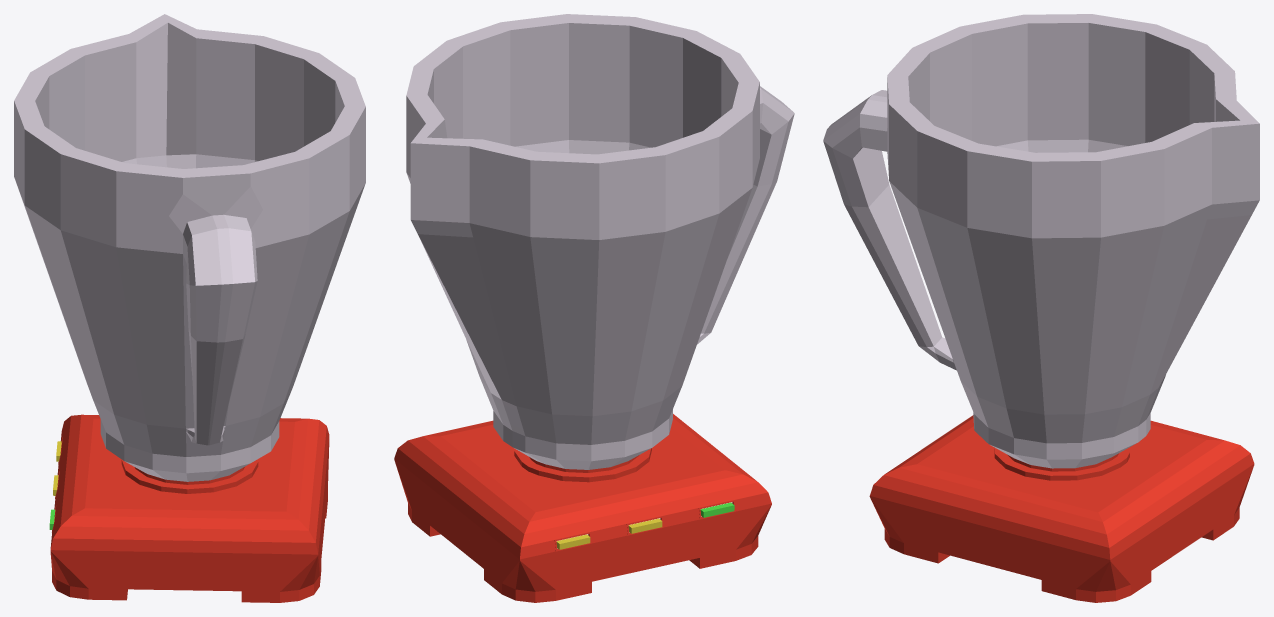
Rendered from blender11.fbx.
3 views of the same model, side by side, from view 1: azimuth 30°, elevation 25°; view 2: azimuth 150°, elevation 25°; view 3: azimuth 270°, elevation 25° (orthographic).
Visible parts, largest first — view 1: blend_0; view 2: blend_0; view 3: blend_0.
Part boxes in pixels (left/top/right/bottom): blend_0: left=14, top=14, right=365, bottom=602; blend_0: left=394, top=14, right=794, bottom=602; blend_0: left=823, top=14, right=1259, bottom=602.
Size of the model in its own units: 890 by 1140 by 1022.
